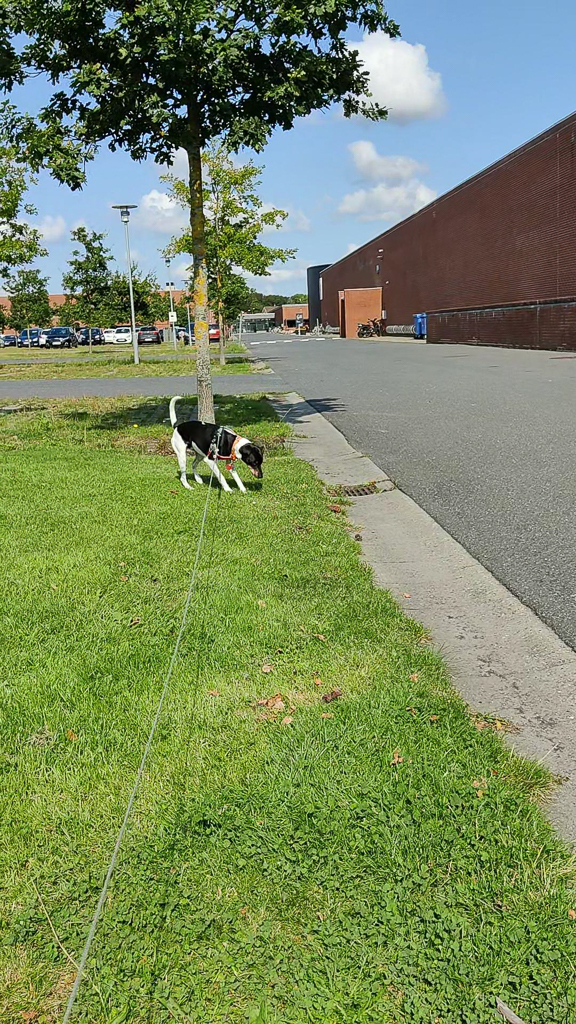Dog: (156, 388, 273, 499)
